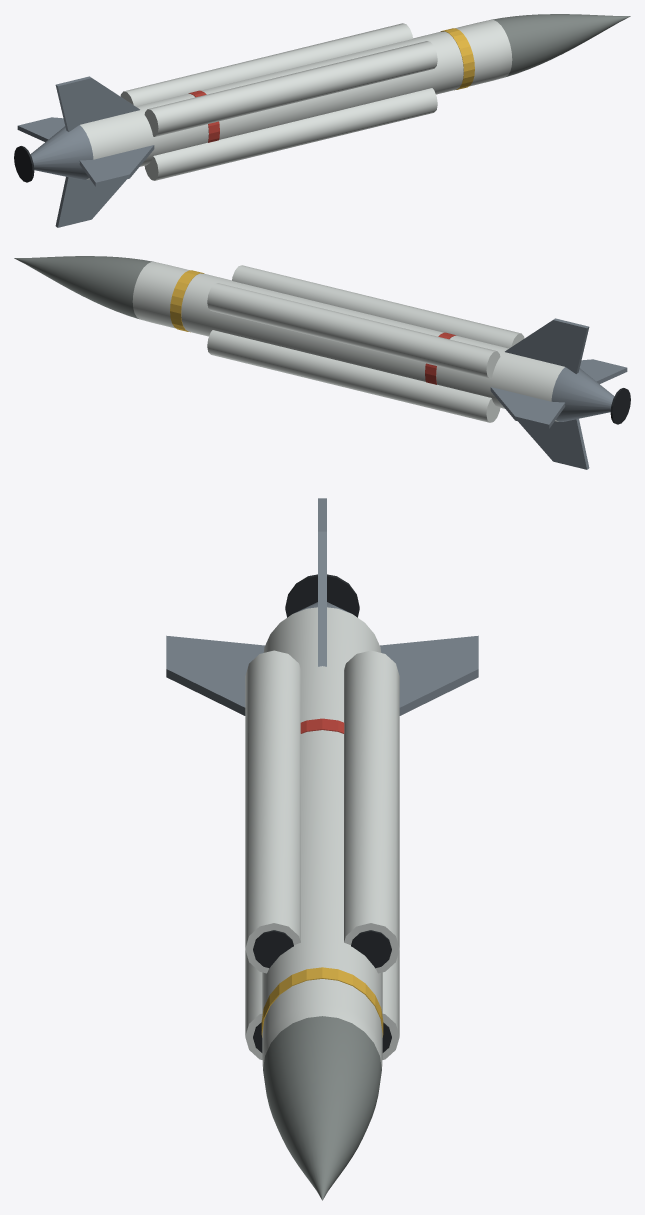
Rendered from pla_yj12b.glb.
The picture shows the model from 3 angles, top to bottom: view 1: azimuth 30°, elevation 25°; view 2: azimuth 150°, elevation 25°; view 3: azimuth 270°, elevation 25°; orthographic projection. The views are drawn at different scales.
Visible parts, largest first — view 1: missile_body, titanium, seeker, marking_yellow, rubber, hazard_red; view 2: missile_body, titanium, seeker, marking_yellow, rubber, hazard_red; view 3: missile_body, seeker, titanium, rubber, marking_yellow.
Part boxes in pixels (left/top/right/bottom): missile_body: left=80, top=20, right=512, bottom=180; titanium: left=17, top=76, right=154, bottom=227; seeker: left=491, top=14, right=630, bottom=77; marking_yellow: left=440, top=28, right=474, bottom=90; rubber: left=14, top=146, right=34, bottom=182; hazard_red: left=188, top=90, right=219, bottom=142; missile_body: left=132, top=262, right=564, bottom=422; titanium: left=490, top=318, right=627, bottom=469; seeker: left=14, top=256, right=153, bottom=319; marking_yellow: left=170, top=270, right=204, bottom=332; rubber: left=610, top=388, right=630, bottom=424; hazard_red: left=425, top=332, right=456, bottom=384; missile_body: left=245, top=607, right=399, bottom=1068; seeker: left=263, top=1016, right=381, bottom=1200; titanium: left=166, top=498, right=478, bottom=715; rubber: left=253, top=574, right=391, bottom=1052; marking_yellow: left=261, top=967, right=383, bottom=1037.
Bounding box in the file's own units: 10 × 2.23 × 2.23.
